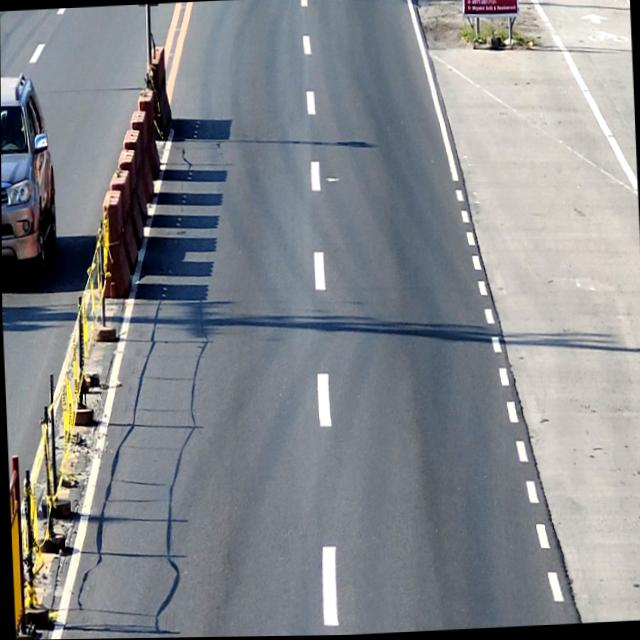Car: (0, 72, 58, 281)
